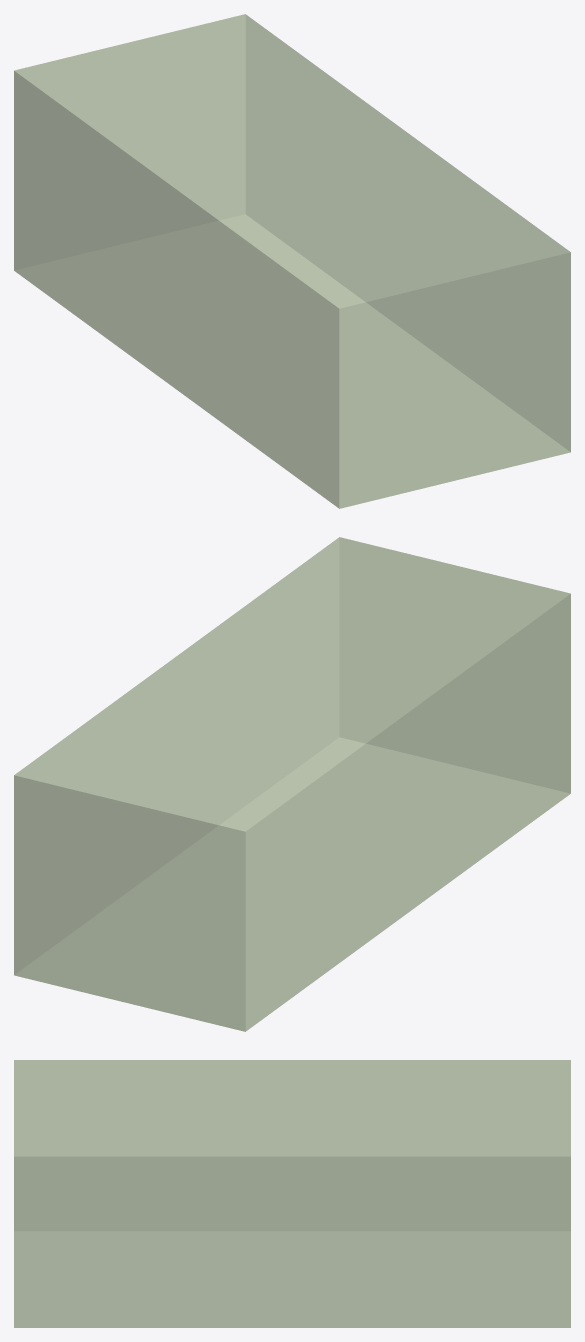
The model's file is blockout.glb.
3 renders of one model, top to bottom at view 1: azimuth 30°, elevation 25°; view 2: azimuth 150°, elevation 25°; view 3: azimuth 270°, elevation 25°, orthographic. The views are drawn at different scales.
Visible parts, largest first — view 1: U04_ENVELOPE_NOT_FINAL_MESH; view 2: U04_ENVELOPE_NOT_FINAL_MESH; view 3: U04_ENVELOPE_NOT_FINAL_MESH.
Boxes of the visible parts, x1=… form: U04_ENVELOPE_NOT_FINAL_MESH: x1=14, y1=14, x2=570, y2=508; U04_ENVELOPE_NOT_FINAL_MESH: x1=14, y1=537, x2=570, y2=1031; U04_ENVELOPE_NOT_FINAL_MESH: x1=14, y1=1060, x2=570, y2=1327.
Size of the model in its own units: 1.15 by 0.95 by 2.8.
